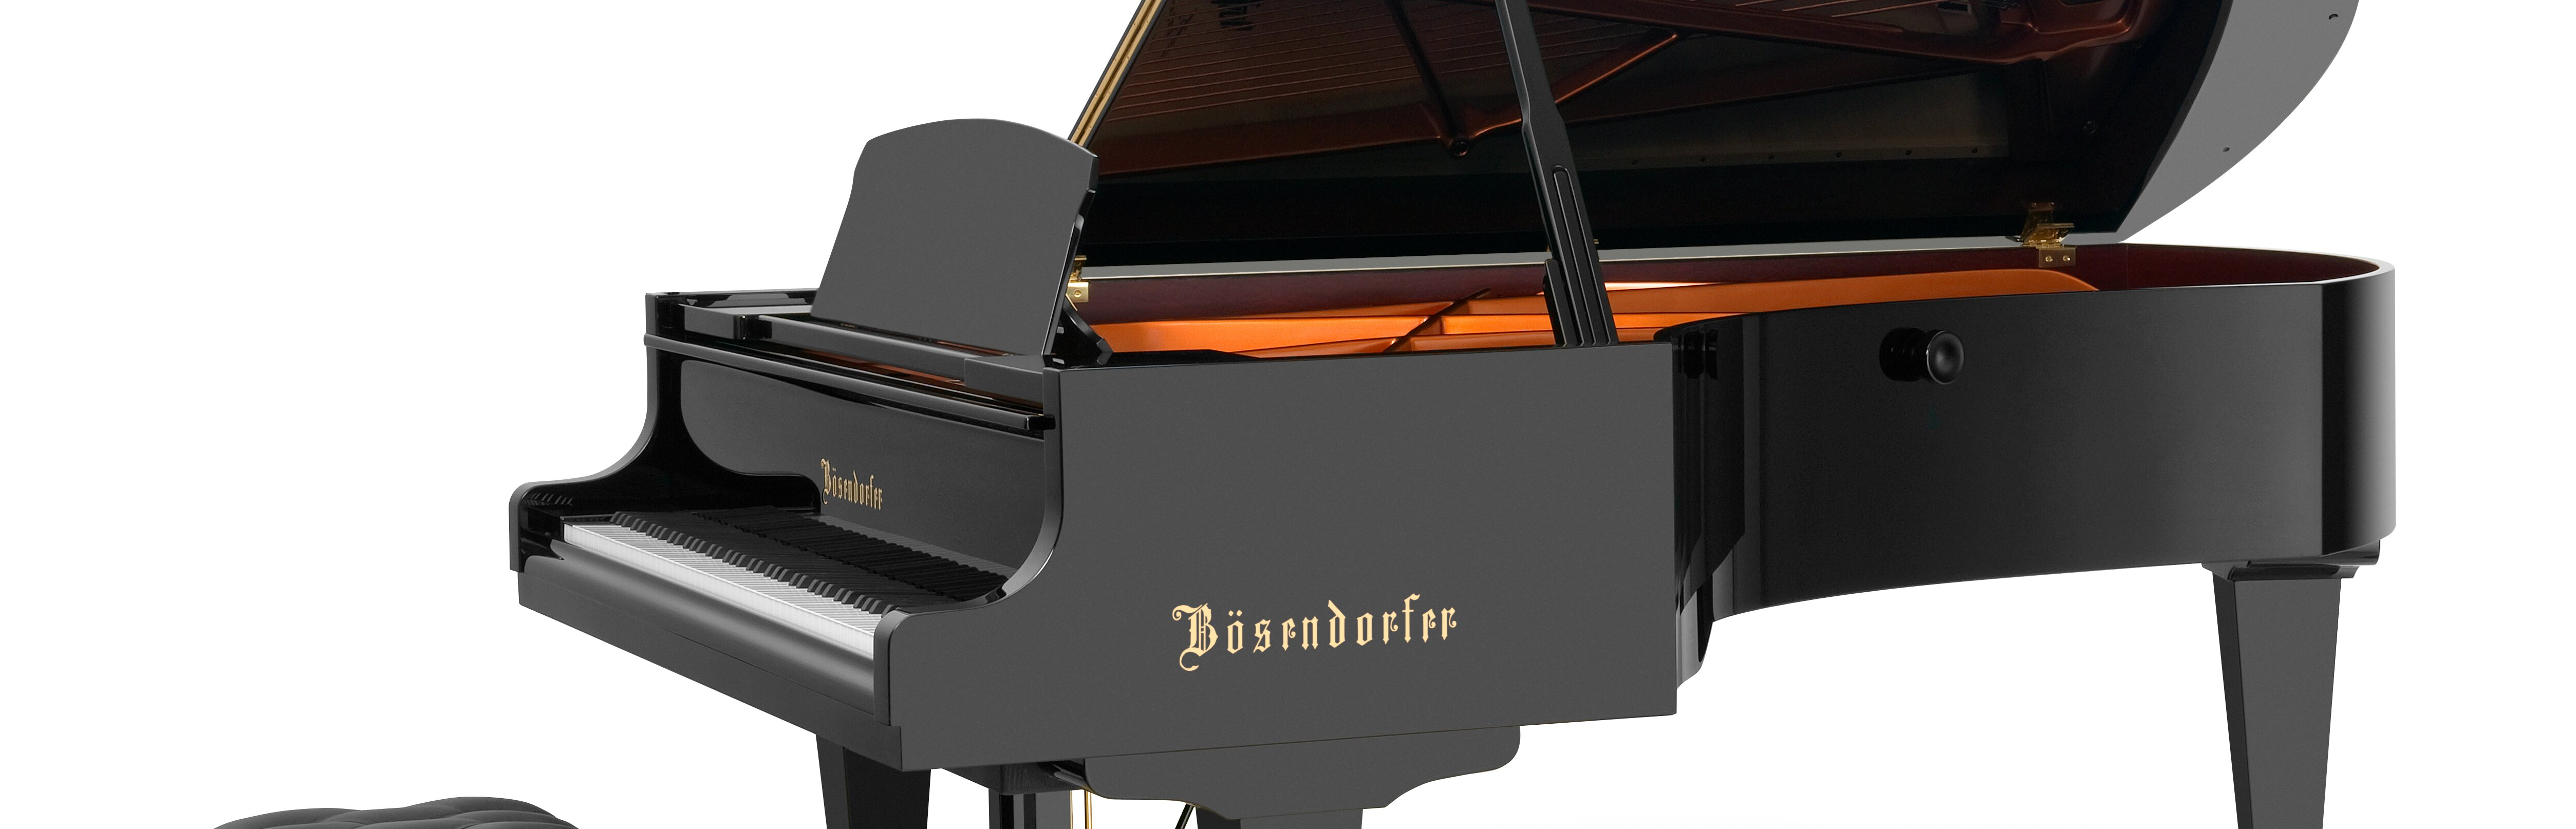GrandPiano: (503, 64, 2481, 762)
